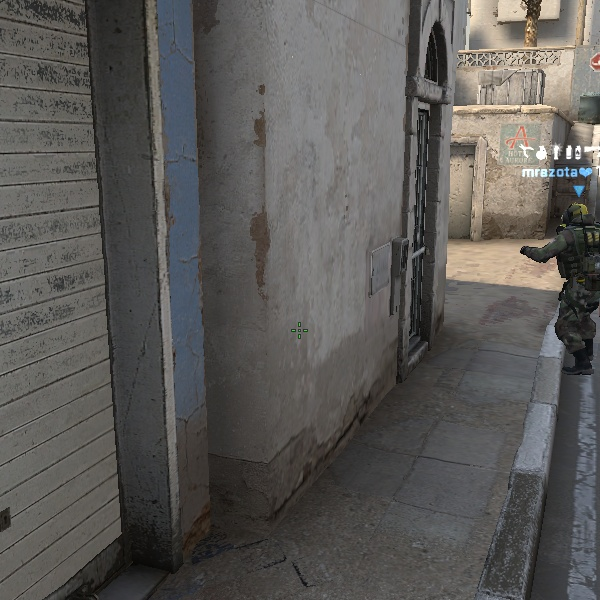ct_body: (532, 195, 598, 376)
ct_head: (557, 197, 597, 238)
